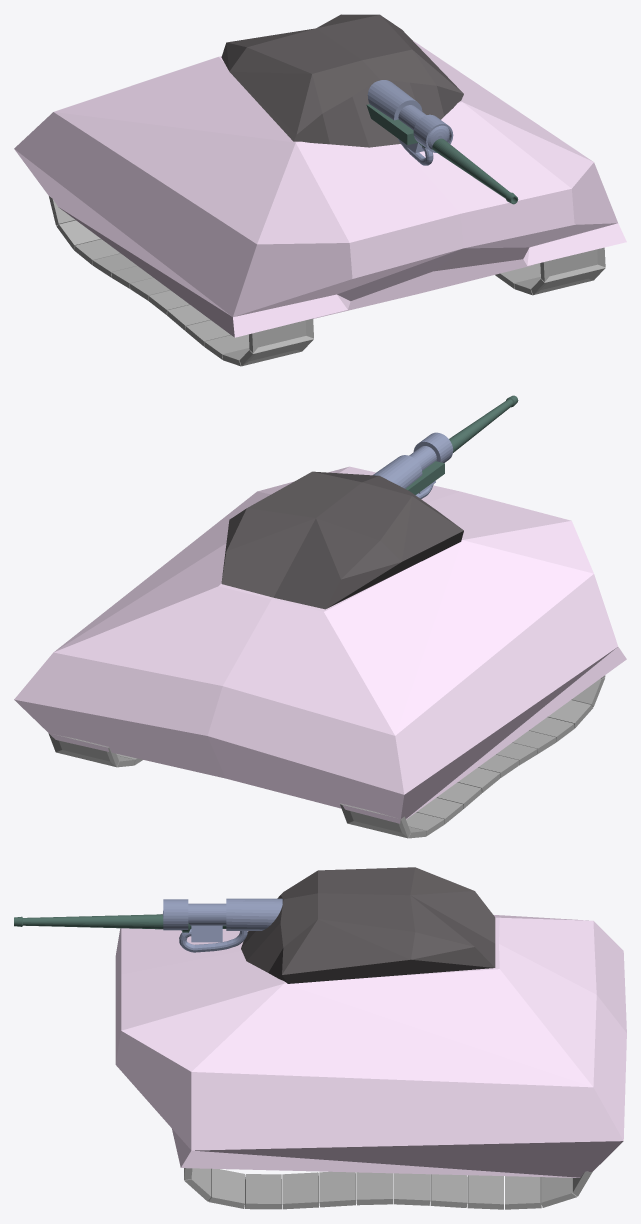
File: Tank 1.fbx
3 renders of one model, top to bottom at view 1: azimuth 30°, elevation 25°; view 2: azimuth 150°, elevation 25°; view 3: azimuth 270°, elevation 25°, orthographic.
Parts seen in each view (by area): view 1: ChassisSmall, TurretSmall, RechterTrack, Laser, LinkerTrack, Auto Cannon; view 2: ChassisSmall, TurretSmall, RechterTrack, Laser, Auto Cannon, LinkerTrack; view 3: ChassisSmall, TurretSmall, LinkerTrack, Laser, Auto Cannon.
Boxes of the visible parts, left/top/right/bottom form: ChassisSmall: left=14, top=40, right=626, bottom=337; TurretSmall: left=221, top=14, right=463, bottom=147; RechterTrack: left=49, top=196, right=313, bottom=366; Laser: left=367, top=80, right=453, bottom=165; LinkerTrack: left=495, top=247, right=605, bottom=295; Auto Cannon: left=366, top=104, right=518, bottom=204; ChassisSmall: left=14, top=466, right=626, bottom=823; TurretSmall: left=221, top=471, right=463, bottom=609; RechterTrack: left=340, top=675, right=605, bottom=838; Laser: left=373, top=432, right=453, bottom=498; Auto Cannon: left=406, top=395, right=518, bottom=494; LinkerTrack: left=48, top=733, right=142, bottom=767; ChassisSmall: left=115, top=913, right=626, bottom=1177; TurretSmall: left=241, top=867, right=495, bottom=983; LinkerTrack: left=184, top=1168, right=592, bottom=1209; Laser: left=163, top=898, right=282, bottom=952; Auto Cannon: left=14, top=914, right=226, bottom=932.
Size of the model in its own units: 1287 by 724 by 1745.
